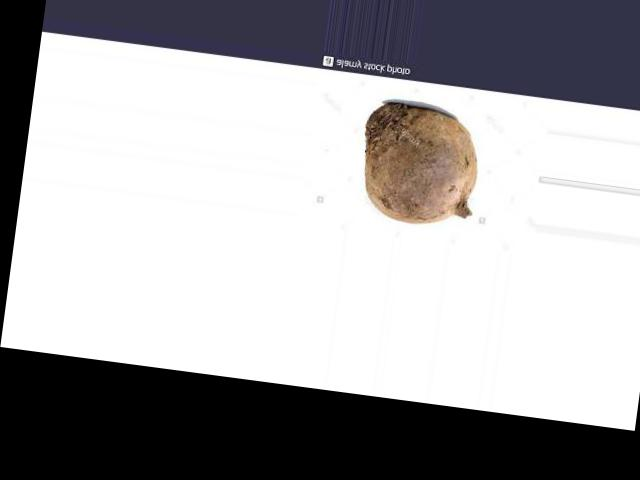beet: (355, 99, 485, 230)
